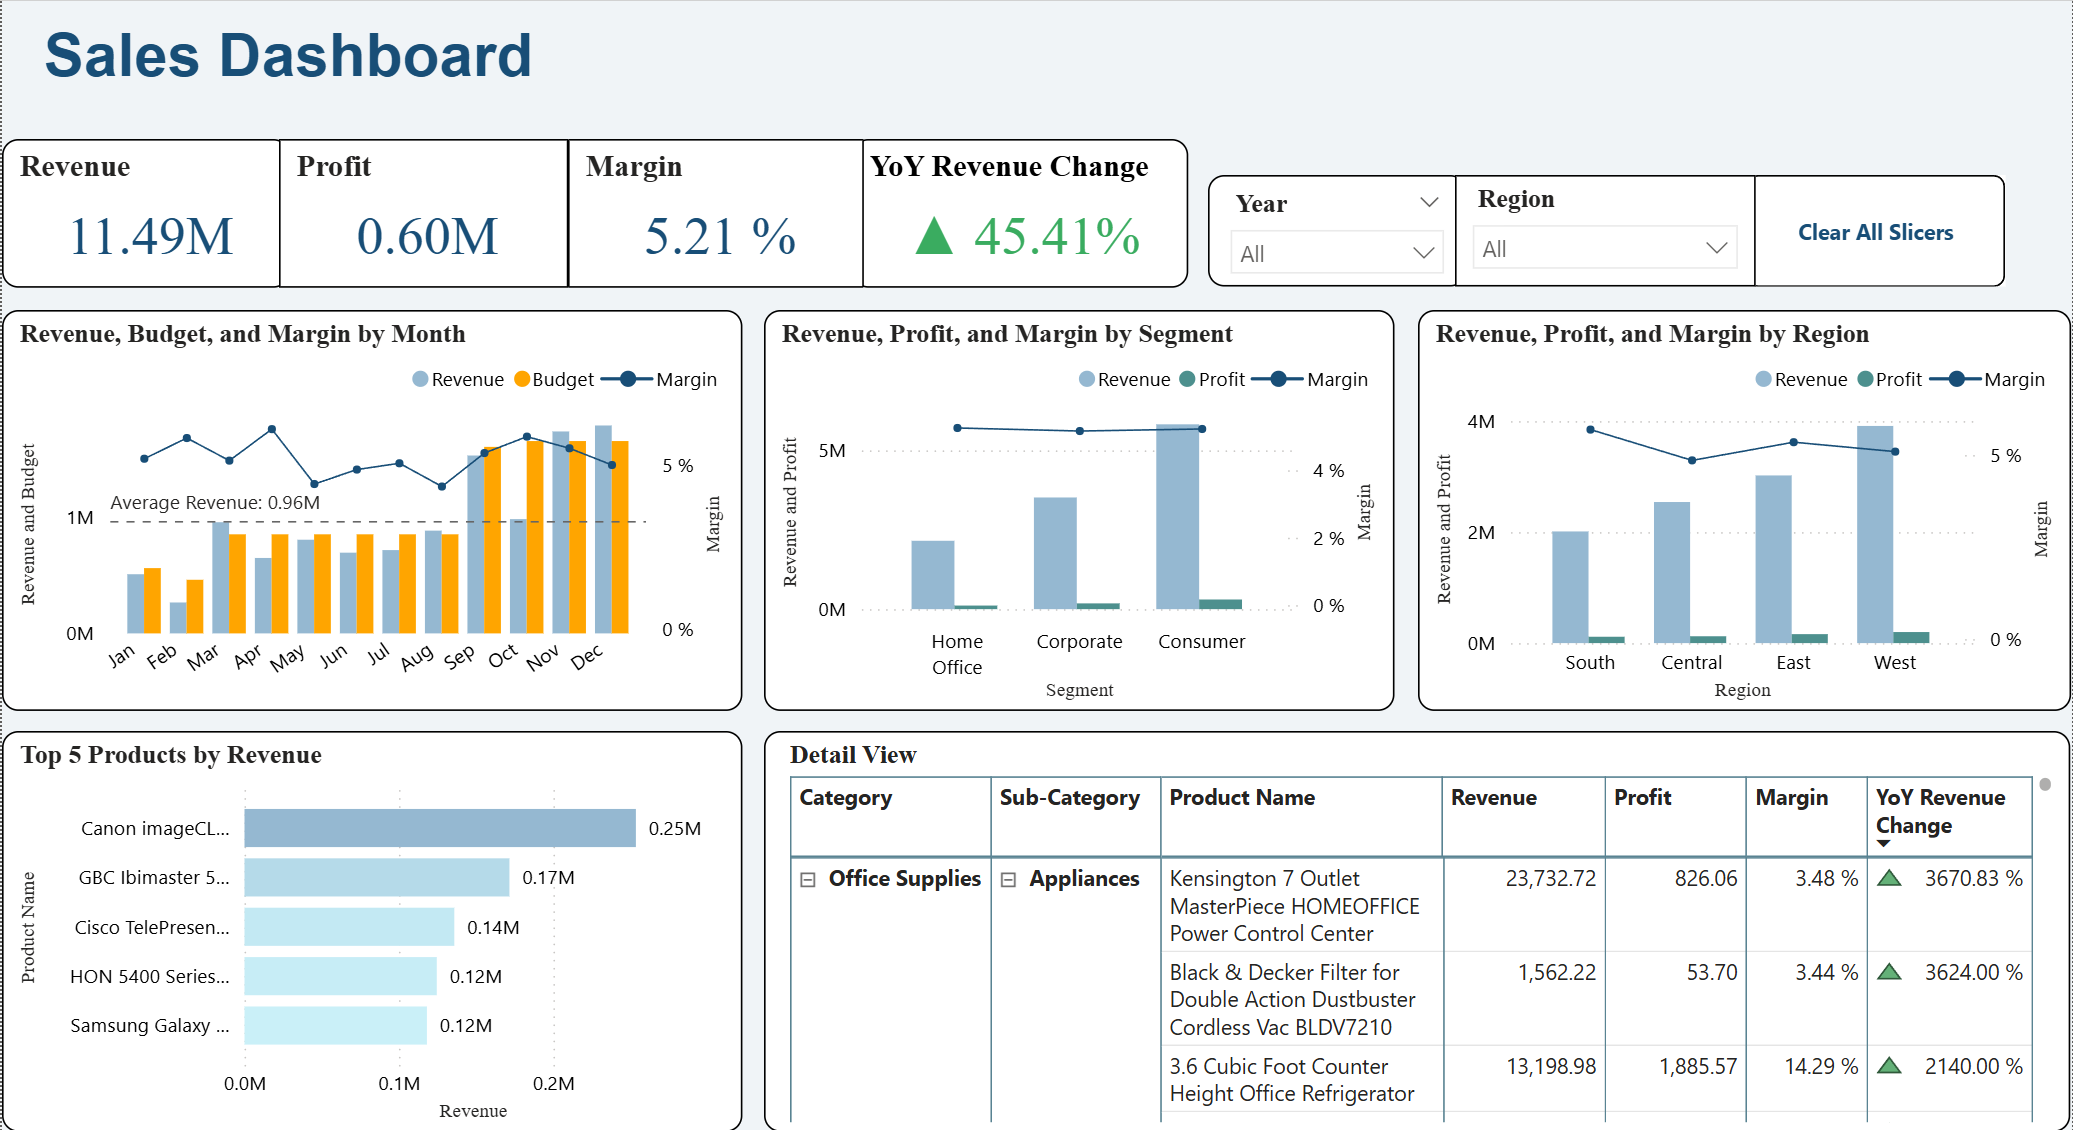

This screenshot's page, from the dashboard's own definition file:
{"tool":"powerbi","page":{"name":"Page 2","canvas":[1280,720],"ordinal":0},"visuals":[{"type":"actionButton","box":[1079.4,128,159.6,69.3],"z":0},{"type":"lineClusteredColumnComboChart","title":"Revenue, Budget, and  Margin by Month","fields":{"Y":["Sum(Sales.Revenue)","Sum(Sales Target.Target)"],"Category":["Date.Month Name"],"Y2":["Sales.Margin %"]},"box":[0,211.5,458.4,248],"z":1000},{"type":"card","title":"YoY Revenue Change","fields":{"Values":["Sales.YoY Revenue Change (With Symbol)"]},"box":[525.8,105.8,207.8,91.5],"z":2000},{"type":"slicer","fields":{"Values":["Date.Year"]},"box":[746,128,160.2,69.3],"z":3000,"group":"g1"},{"type":"lineClusteredColumnComboChart","title":"Revenue, Profit, and Margin by Segment","fields":{"Category":["Customer.Segment"],"Y":["Sales.Total Revenue","Sum(Sales.Profit)"],"Y2":["Sales.Margin"]},"box":[471.3,211.5,389.7,248],"z":3000},{"type":"lineClusteredColumnComboChart","title":"Revenue, Profit, and Margin by Region","fields":{"Category":["Location.Region"],"Y":["Sum(Sales.Revenue)","Sum(Sales.Profit)"],"Y2":["Sales.Margin"]},"box":[875.9,211.5,403.9,248],"z":4000},{"type":"pivotTable","title":"Detail View","fields":{"Rows":["Product.Category","Product.Sub-Category","Product.Product Name"],"Values":["Sum(Sales.Revenue)","Sum(Sales.Profit)","Sales.Margin","Sales.YoY Revenue %"]},"box":[471.3,472,808.5,248],"z":5000},{"type":"card","title":"Revenue","fields":{"Values":["Sum(Sales.Revenue)"]},"box":[0,105.8,178.1,91.5],"z":6000},{"type":"textbox","box":[0,27.8,629.7,74.2],"z":7000},{"type":"card","title":"Profit","fields":{"Values":["Sum(Sales.Profit)"]},"box":[171.3,105.8,178.8,91.5],"z":8000},{"type":"group","id":"g1","title":"Group 1","box":[746,128,338.4,69.3],"z":10000},{"type":"slicer","fields":{"Values":["Location.Region"]},"box":[898.8,128,185.6,68.7],"z":10000,"group":"g1"},{"type":"clusteredBarChart","title":"Top 5 Products by Revenue","fields":{"Category":["Product.Product Name"],"Y":["Sum(Sales.Revenue)"]},"box":[0,472,458.4,248],"z":11001},{"type":"card","title":"Margin","fields":{"Values":["Sales.Margin"]},"box":[350.1,105.8,183.1,91.5],"z":11501}]}

Visuals, with their boxes in screenshot pixels (x1, y1, x2, y2):
actionButton: <region>1729, 173, 1985, 284</region>
"Revenue, Budget, and  Margin by Month" lineClusteredColumnComboChart: <region>0, 306, 734, 704</region>
"YoY Revenue Change" card: <region>842, 137, 1175, 284</region>
slicer - Date.Year: <region>1195, 173, 1452, 284</region>
"Revenue, Profit, and Margin by Segment" lineClusteredColumnComboChart: <region>755, 306, 1379, 704</region>
"Revenue, Profit, and Margin by Region" lineClusteredColumnComboChart: <region>1403, 306, 2050, 704</region>
"Detail View" pivotTable: <region>755, 724, 2050, 1121</region>
"Revenue" card: <region>0, 137, 285, 284</region>
textbox: <region>0, 12, 1009, 131</region>
"Profit" card: <region>274, 137, 561, 284</region>
"Group 1" group: <region>1195, 173, 1737, 284</region>
slicer - Location.Region: <region>1440, 173, 1737, 283</region>
"Top 5 Products by Revenue" clusteredBarChart: <region>0, 724, 734, 1121</region>
"Margin" card: <region>561, 137, 854, 284</region>
